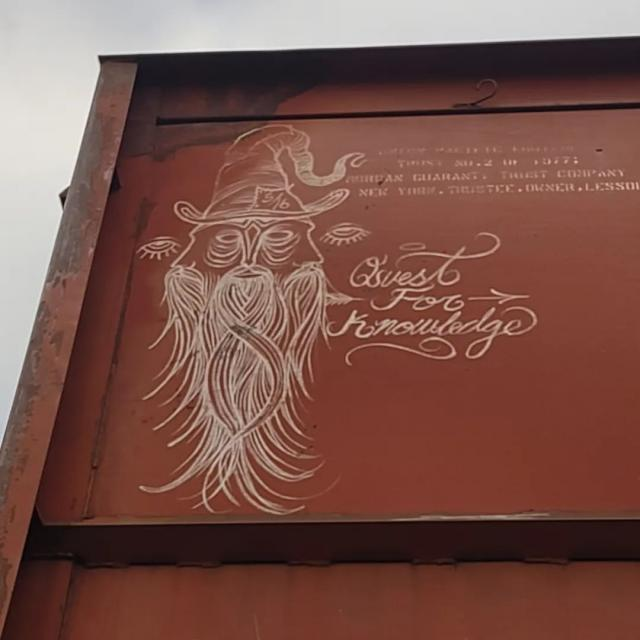-: (156, 125, 367, 520), (342, 230, 580, 390)
